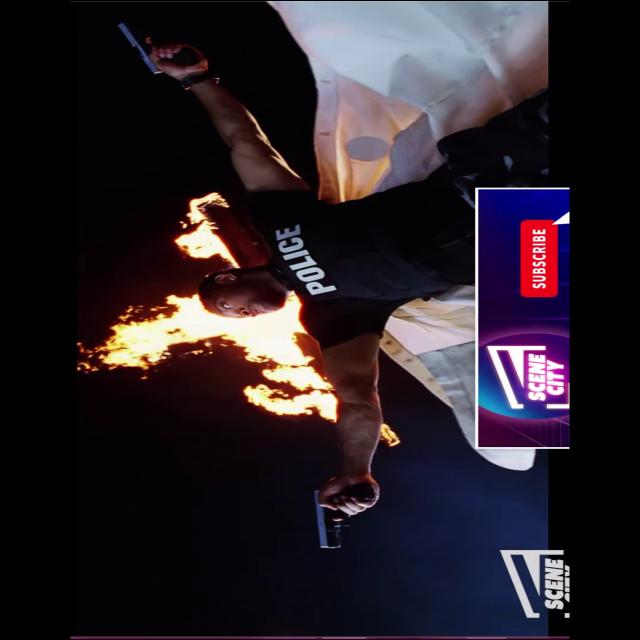weapons: (294, 465, 398, 555), (104, 14, 222, 82)
